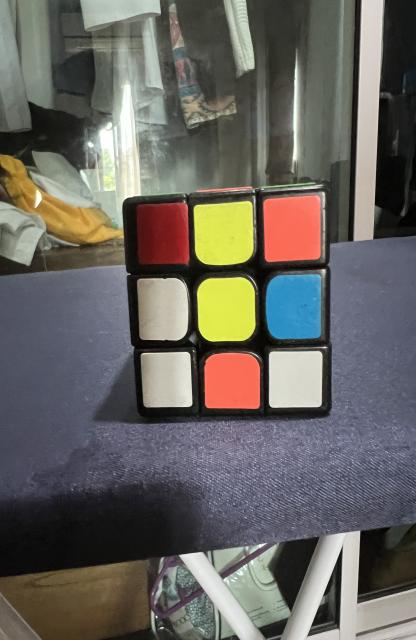Blue: (265, 274, 322, 339)
Orange: (263, 195, 321, 262), (204, 352, 260, 409)
Red: (136, 202, 190, 265)
White: (136, 278, 188, 341), (269, 351, 323, 408), (141, 351, 193, 408)
Yellow: (194, 201, 254, 265), (197, 278, 256, 341)
